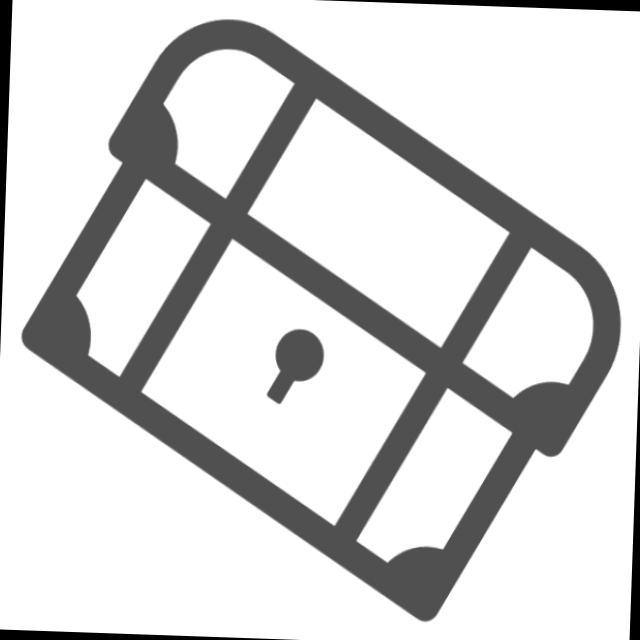treasure_box: (5, 2, 638, 640)
